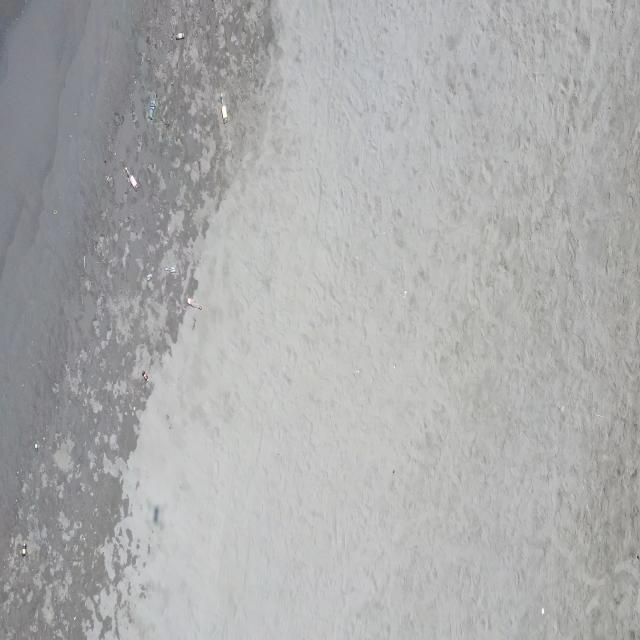glass: (125, 166, 139, 191), (147, 92, 158, 120), (220, 91, 228, 125), (187, 296, 202, 311), (165, 266, 177, 274), (142, 371, 149, 382), (174, 33, 186, 39), (146, 273, 153, 282), (22, 543, 26, 557), (34, 444, 39, 452)
